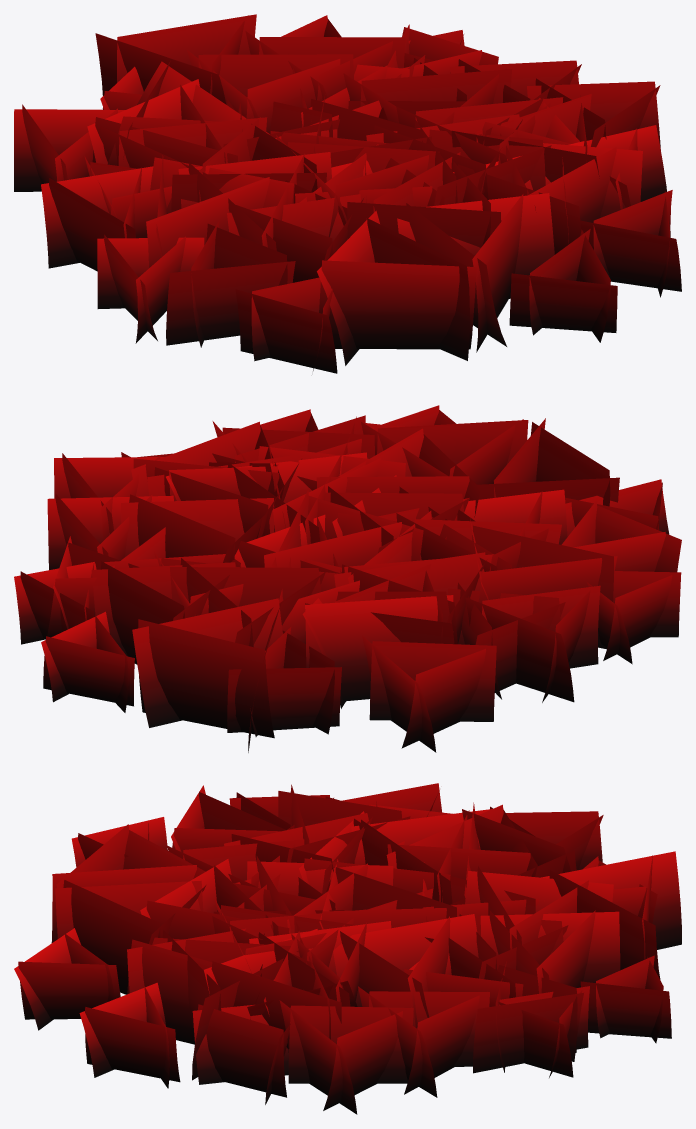
The picture shows the model from 3 angles, top to bottom: view 1: azimuth 30°, elevation 25°; view 2: azimuth 150°, elevation 25°; view 3: azimuth 270°, elevation 25°; orthographic projection. The views are drawn at different scales.
Visible parts, largest first — view 1: Object001; view 2: Object001; view 3: Object001.
Part boxes in pixels (bbox=[...]): Object001: bbox=[14, 14, 681, 373]; Object001: bbox=[14, 405, 681, 752]; Object001: bbox=[14, 783, 681, 1114].
Size of the model in its own units: 2.51 by 2.64 by 0.5363.
